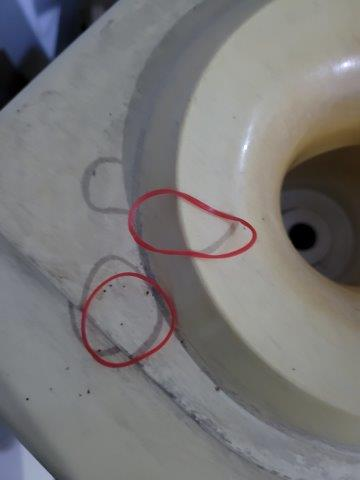karet: (127, 190, 258, 258), (83, 271, 176, 366)
